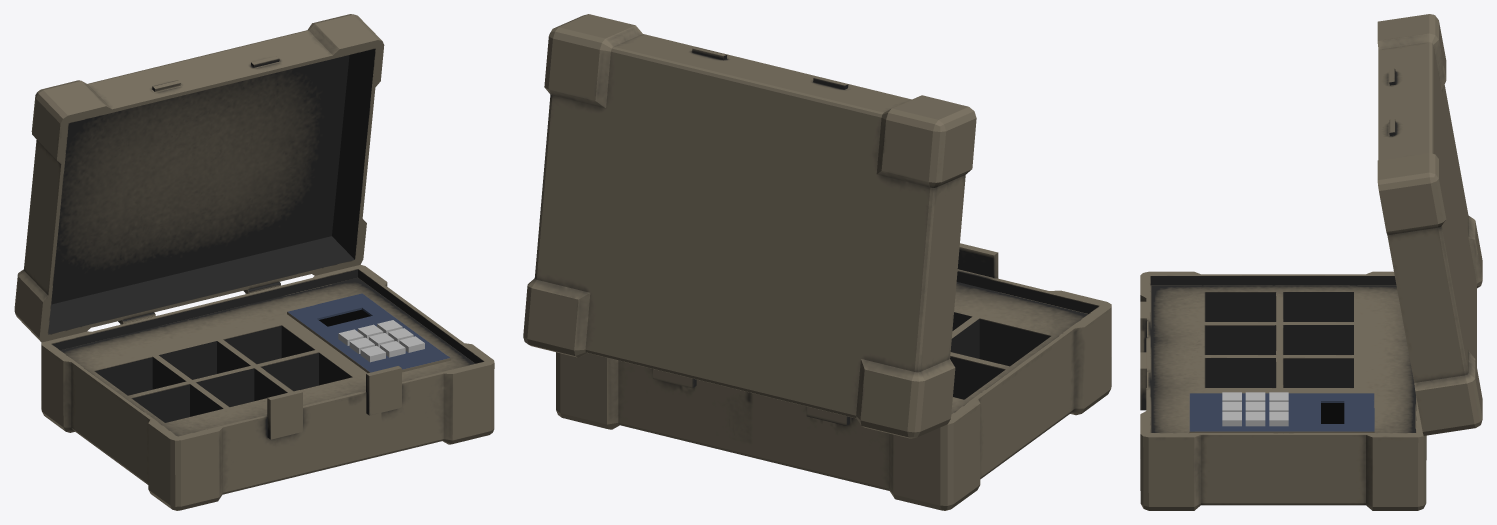
The model's file is Boomcase.fbx.
3 renders of one model, left to right at view 1: azimuth 30°, elevation 25°; view 2: azimuth 150°, elevation 25°; view 3: azimuth 270°, elevation 25°, orthographic. The views are drawn at different scales.
Parts seen in each view (by area): view 1: Case top, Case bottom, Cube.001, Cube.002; view 2: Case top, Case bottom; view 3: Case bottom, Case top, Cube.001, Cube.002.
Boxes of the visible parts, left/top/right/bottom form: Case top: left=14, top=14, right=384, bottom=342; Case bottom: left=41, top=264, right=494, bottom=510; Cube.001: left=287, top=293, right=450, bottom=372; Cube.002: left=338, top=320, right=424, bottom=362; Case top: left=523, top=14, right=976, bottom=438; Case bottom: left=556, top=243, right=1111, bottom=510; Case bottom: left=1140, top=271, right=1426, bottom=510; Case top: left=1377, top=14, right=1482, bottom=435; Cube.001: left=1189, top=393, right=1374, bottom=432; Cube.002: left=1222, top=392, right=1288, bottom=426.
Bounding box in the file's own units: 286 × 272 × 250.
Materials: 2 (1 with a texture image).
